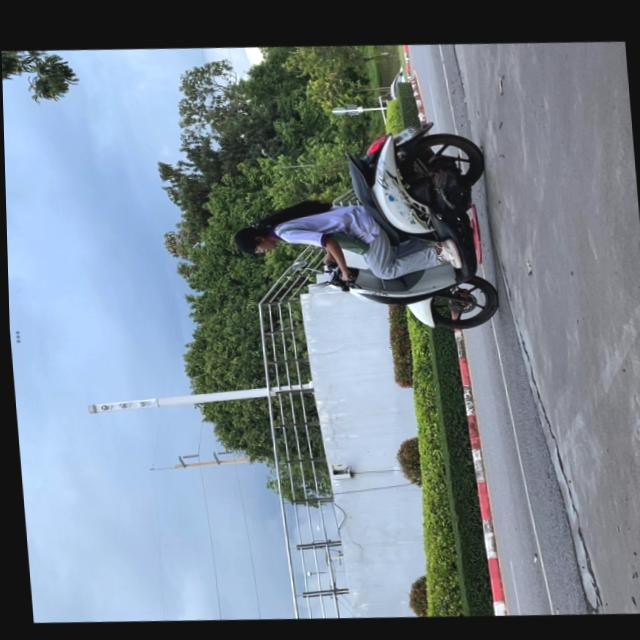seatbelt: (231, 216, 276, 253)
